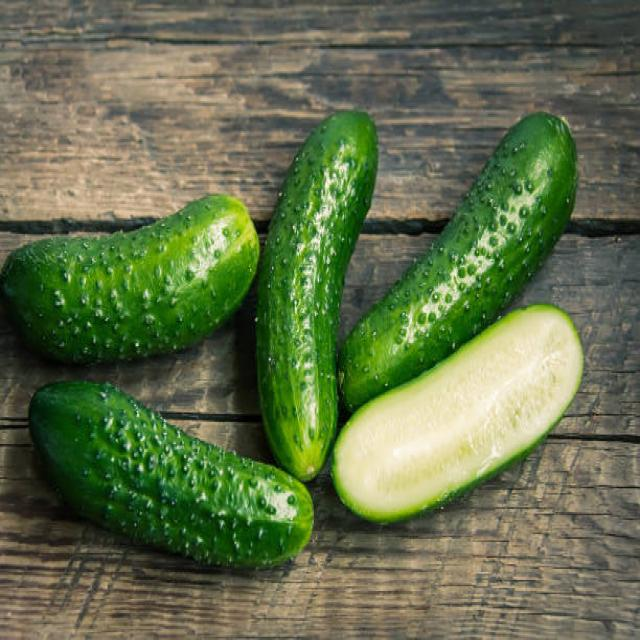cucumber: (338, 114, 576, 403), (25, 375, 315, 569), (331, 304, 585, 520), (254, 107, 378, 483), (0, 192, 259, 357)
